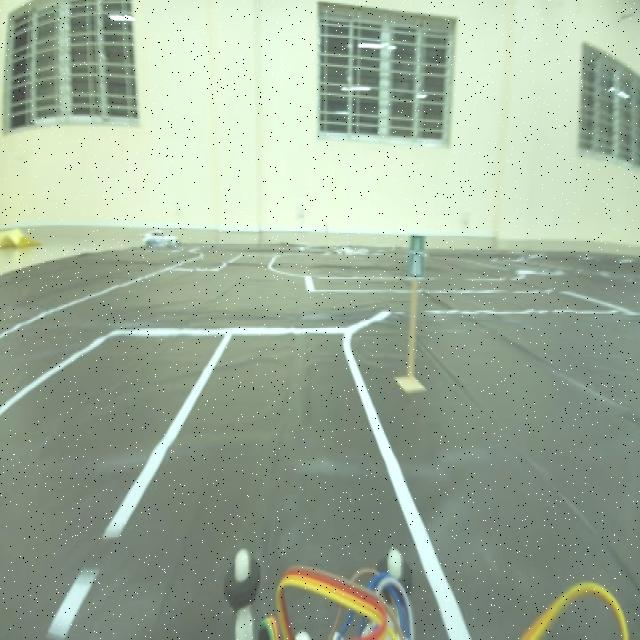highway_entry: (407, 228, 429, 290)
